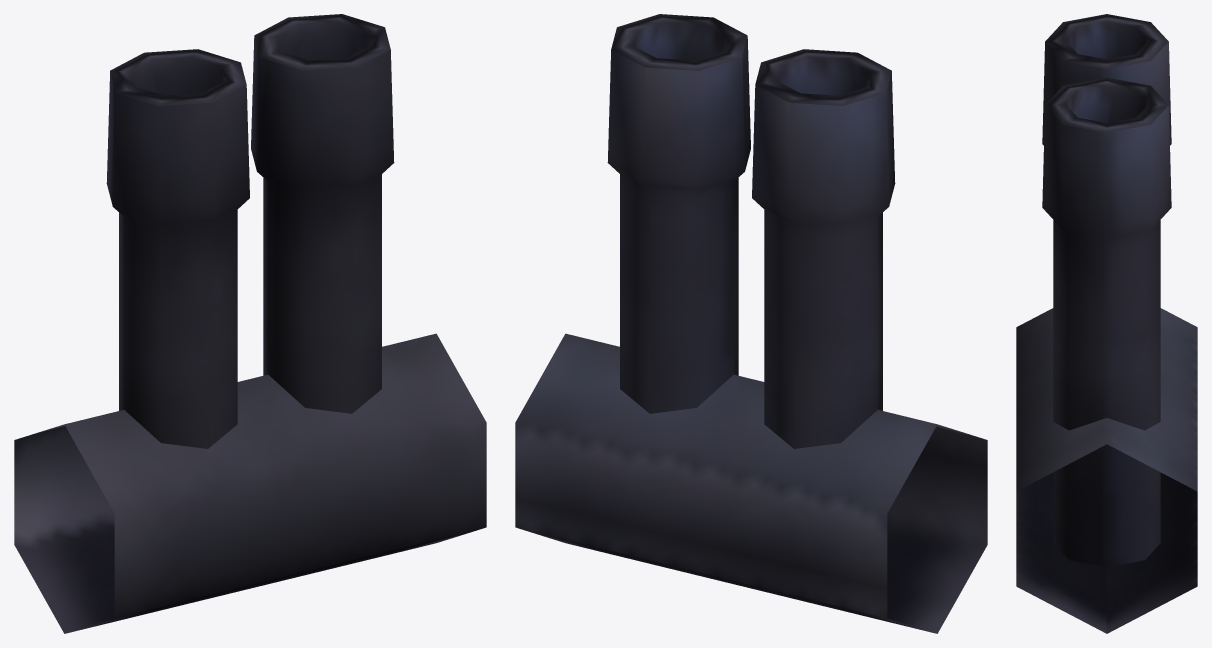
File: alpha_ship_cannon.fbx
The picture shows the model from 3 angles, left to right: view 1: azimuth 30°, elevation 25°; view 2: azimuth 150°, elevation 25°; view 3: azimuth 270°, elevation 25°; orthographic projection. The views are drawn at different scales.
Visible parts, largest first — view 1: cannon_barrels; view 2: cannon_barrels; view 3: cannon_barrels.
Part boxes in pixels (x1=…): cannon_barrels: x1=14, y1=14, x2=486, y2=633; cannon_barrels: x1=515, y1=14, x2=987, y2=633; cannon_barrels: x1=1016, y1=14, x2=1197, y2=633.
Size of the model in its own units: 13.67 by 18.59 by 6.37.
Materials: 1 (1 with a texture image).
